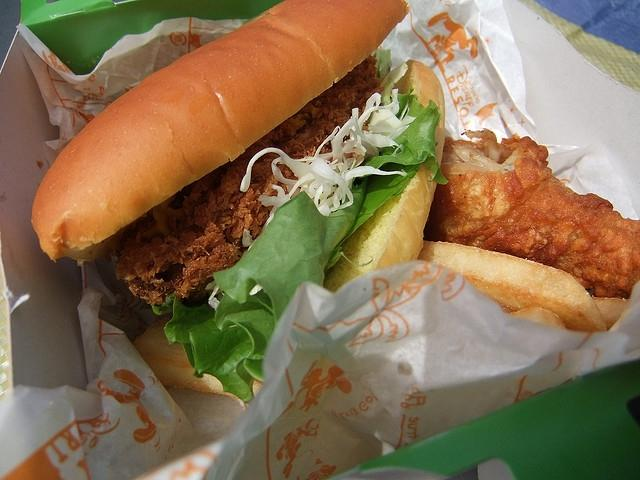lettuce: (211, 180, 368, 326), (356, 99, 448, 185)
